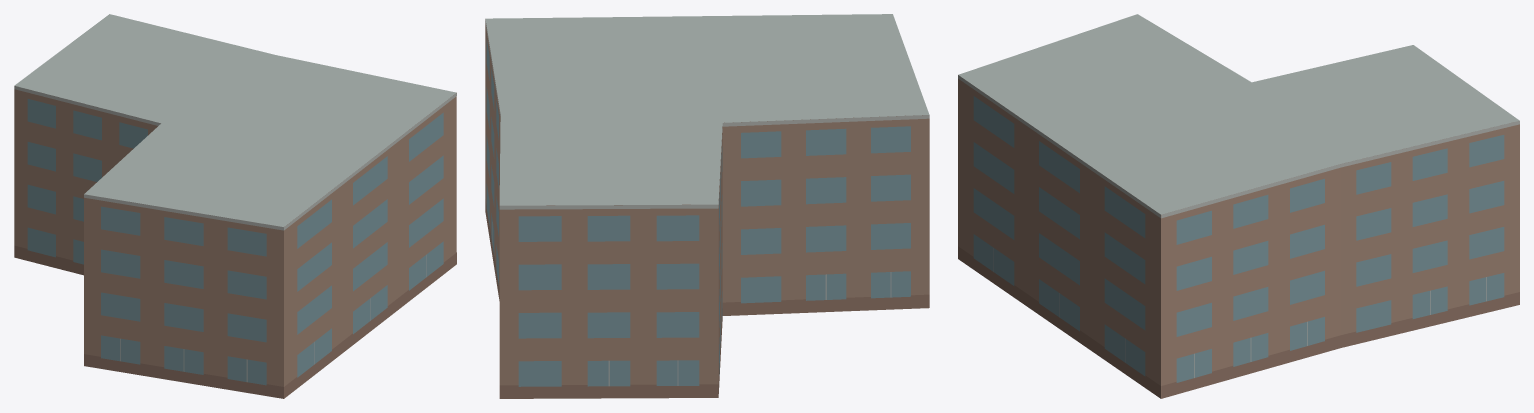
The model's file is residential-31f798e2-443b-4217-9bb6-f1137d39f001.glb.
3 renders of one model, left to right at view 1: azimuth 30°, elevation 25°; view 2: azimuth 150°, elevation 25°; view 3: azimuth 270°, elevation 25°, orthographic. The views are drawn at different scales.
Parts seen in each view (by area): view 1: residential-31f798e2-443b-4217-9bb6-f1137d39f001.tmp; view 2: residential-31f798e2-443b-4217-9bb6-f1137d39f001.tmp; view 3: residential-31f798e2-443b-4217-9bb6-f1137d39f001.tmp.
Part boxes in pixels (<box>): residential-31f798e2-443b-4217-9bb6-f1137d39f001.tmp: <box>14,14,456,398</box>; residential-31f798e2-443b-4217-9bb6-f1137d39f001.tmp: <box>485,14,929,398</box>; residential-31f798e2-443b-4217-9bb6-f1137d39f001.tmp: <box>958,14,1519,398</box>.
Bounding box in the file's own units: 28.53 × 12.2 × 33.74.
